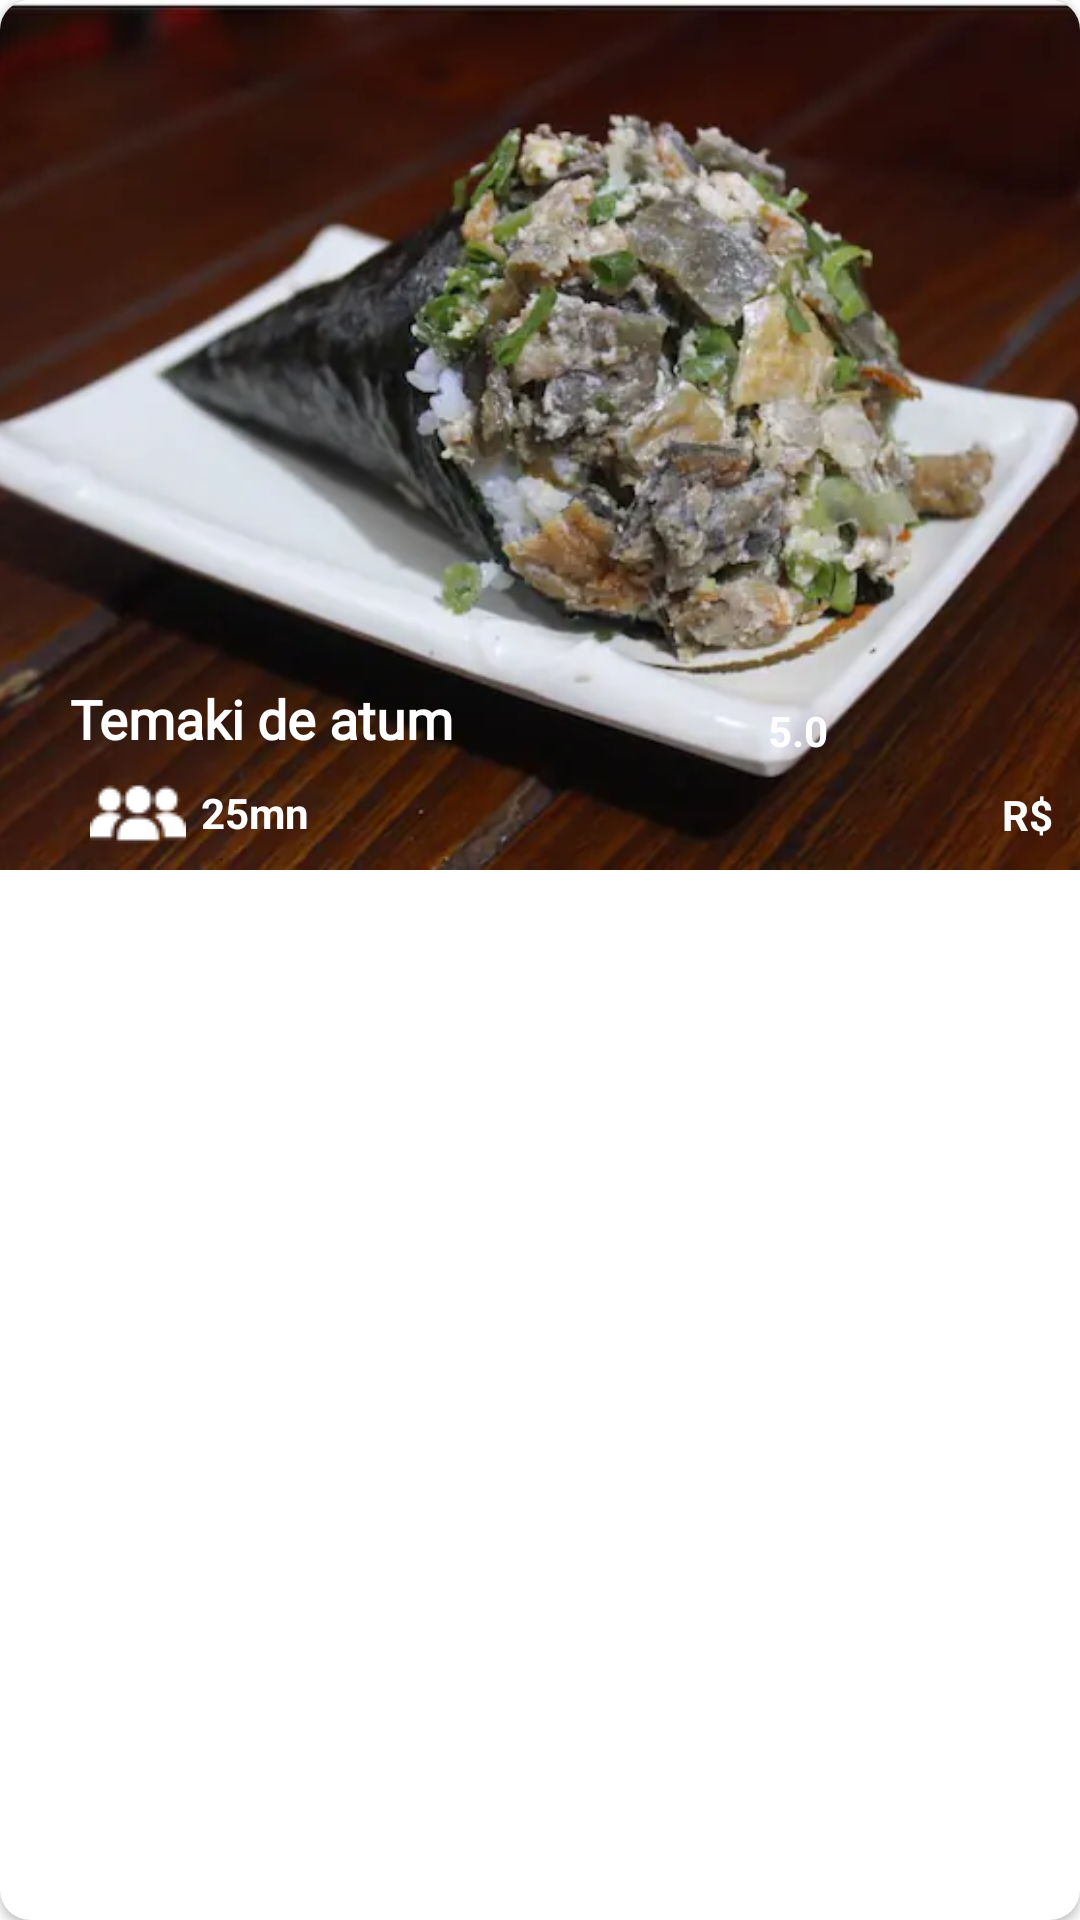

Icons on this 1080*1920 Android screen, each with its box as box(x1, y1, x2, y2):
audience: box(90, 785, 186, 861)
